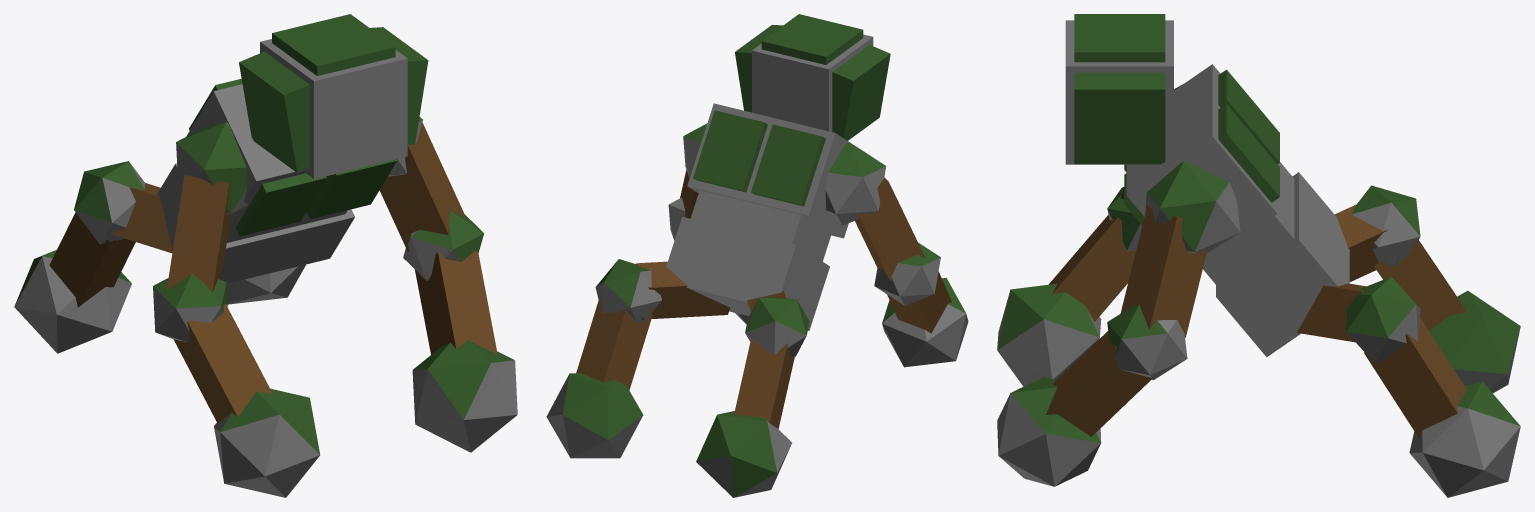
File: Mosskee.fbx
The picture shows the model from 3 angles, left to right: view 1: azimuth 30°, elevation 25°; view 2: azimuth 150°, elevation 25°; view 3: azimuth 270°, elevation 25°; orthographic projection. The views are drawn at different scales.
Parts seen in each view (by area): view 1: Cube.004, Icosphere.003, Cube.003, Cube.002, Icosphere.002; view 2: Cube.004, Icosphere.003, Cube.002, Icosphere.002, Cube.003; view 3: Cube.004, Icosphere.003, Cube.003, Icosphere.002.
Part boxes in pixels (x1,y1,x2,y2): Cube.004: [14, 14, 517, 452]; Icosphere.003: [214, 388, 320, 497]; Cube.003: [173, 304, 272, 423]; Cube.002: [166, 175, 230, 292]; Icosphere.002: [153, 274, 227, 342]; Cube.004: [546, 14, 890, 497]; Icosphere.003: [882, 278, 968, 367]; Cube.002: [855, 177, 925, 280]; Icosphere.002: [874, 242, 940, 305]; Cube.003: [887, 271, 951, 333]; Cube.004: [997, 14, 1520, 497]; Icosphere.003: [997, 283, 1101, 386]; Cube.003: [1049, 215, 1135, 321]; Icosphere.002: [1107, 187, 1141, 251].
Size of the model in its own units: 687 by 828 by 965.
